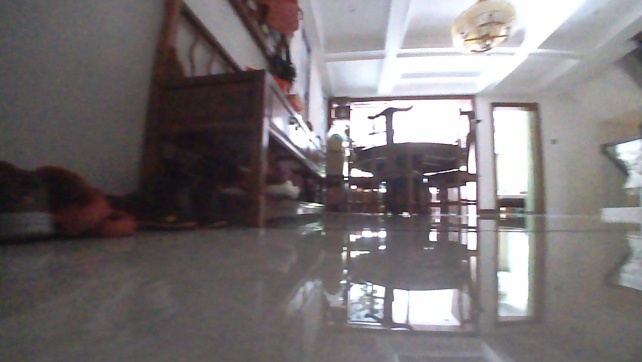dining_table: (345, 103, 482, 219)
shoe: (126, 170, 199, 230)
slipper: (35, 161, 111, 235)
